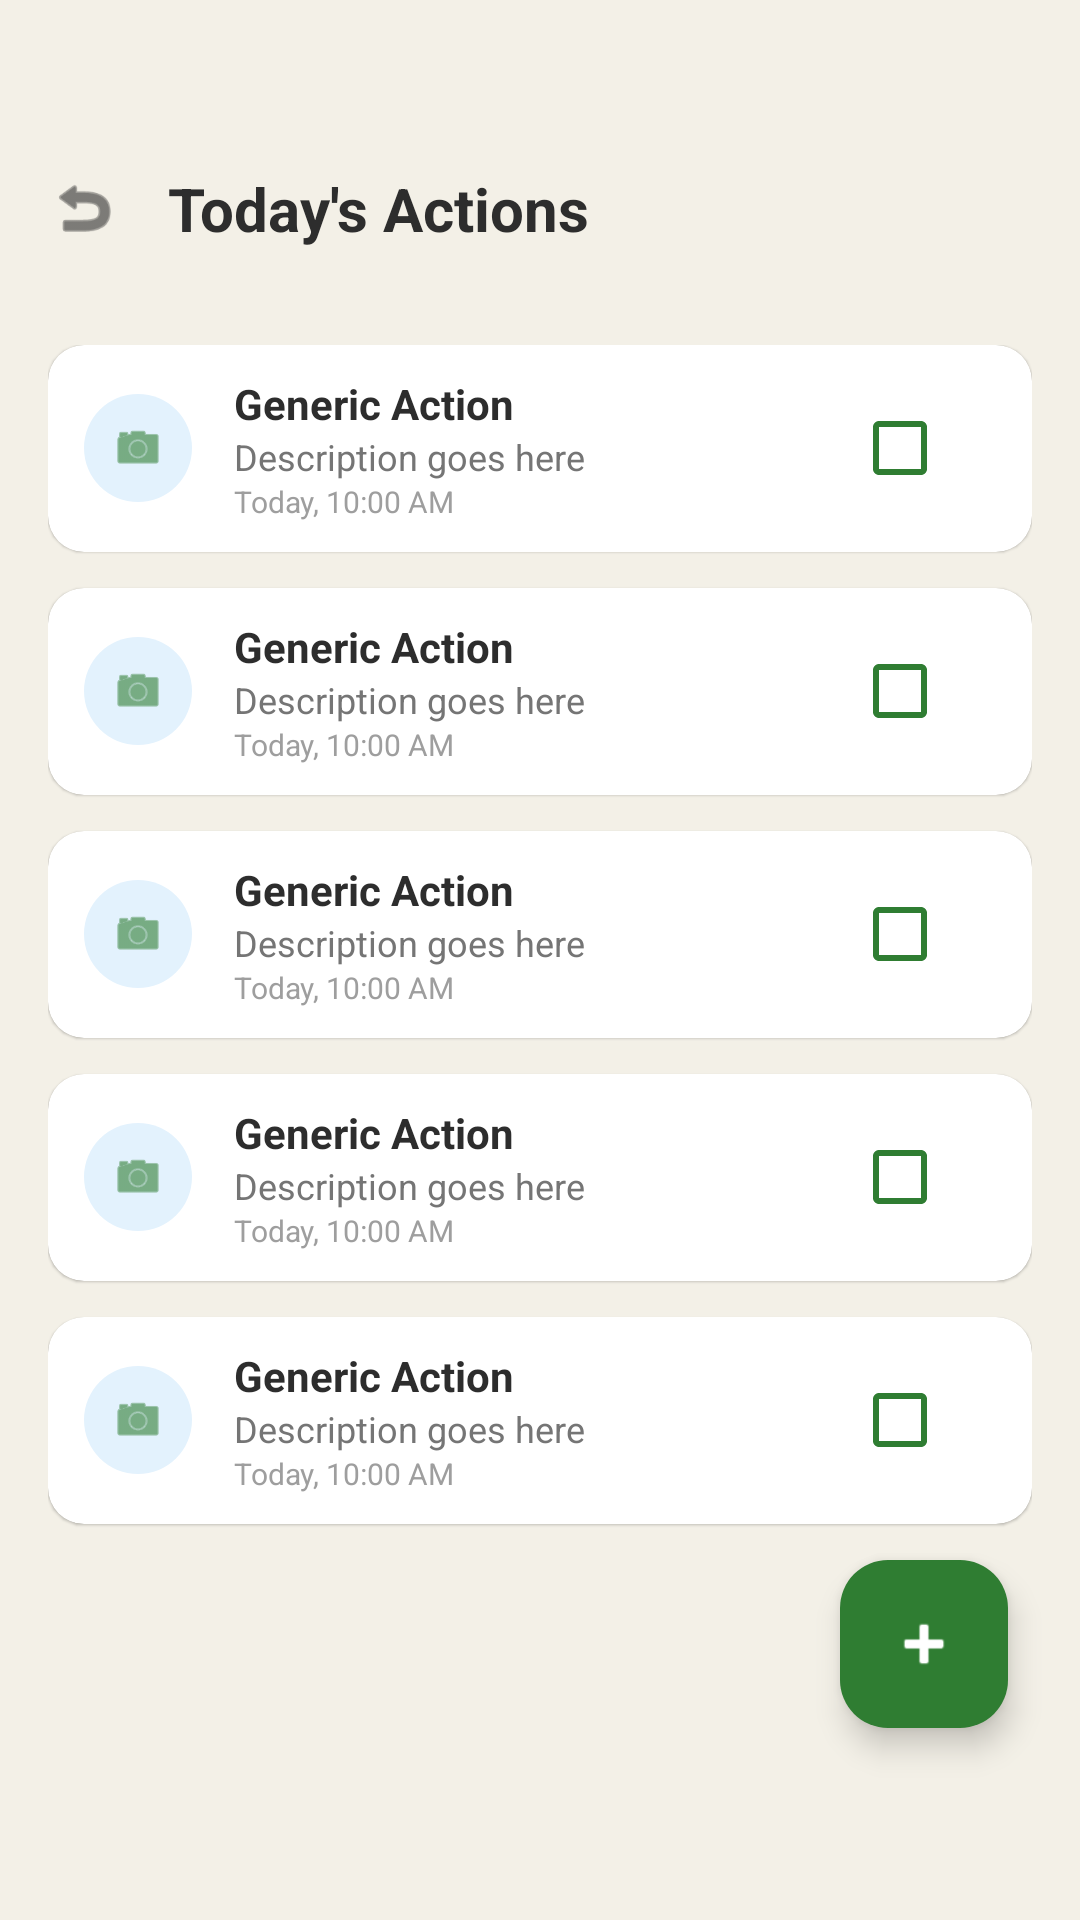

Locate icon controls on the screen. Image size 1080 x 1920, boxes as (x1,y1,x2,y2).
add: (840,1560,1008,1728)
camera: (117,431,159,464), (117,674,159,707), (117,917,159,950), (117,1160,159,1193), (117,1403,159,1436)
revert: (59,185,111,232)
